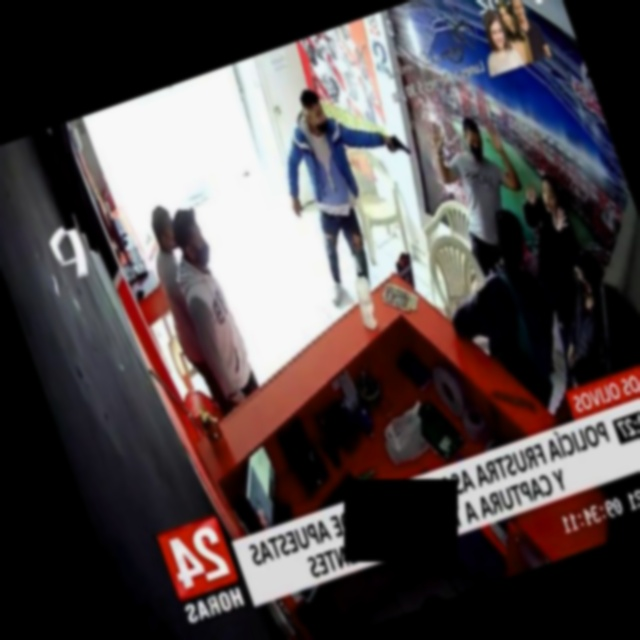gun: (377, 118, 418, 173)
